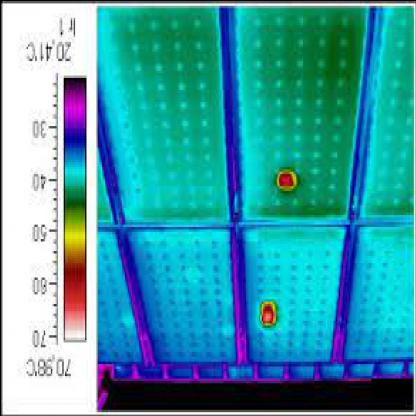Defects: (258, 296, 275, 327), (274, 166, 294, 188)
